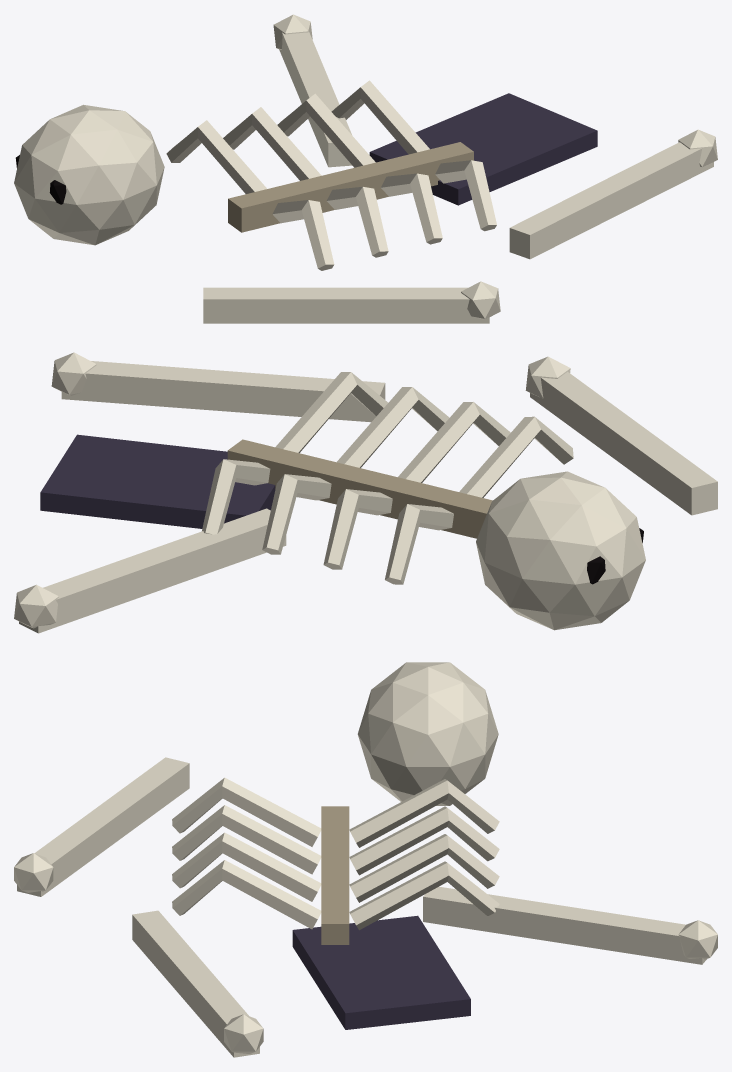
Rendered from bones_lo.glb.
The picture shows the model from 3 angles, top to bottom: view 1: azimuth 30°, elevation 25°; view 2: azimuth 150°, elevation 25°; view 3: azimuth 270°, elevation 25°; orthographic projection. The views are drawn at different scales.
Visible parts, largest first — view 1: bones; view 2: bones; view 3: bones.
Boxes of the visible parts, left/top/right/bottom form: bones: left=14, top=14, right=717, bottom=323; bones: left=14, top=352, right=717, bottom=633; bones: left=14, top=662, right=717, bottom=1057.
Size of the model in its own units: 0.777 by 0.16 by 0.7585.
